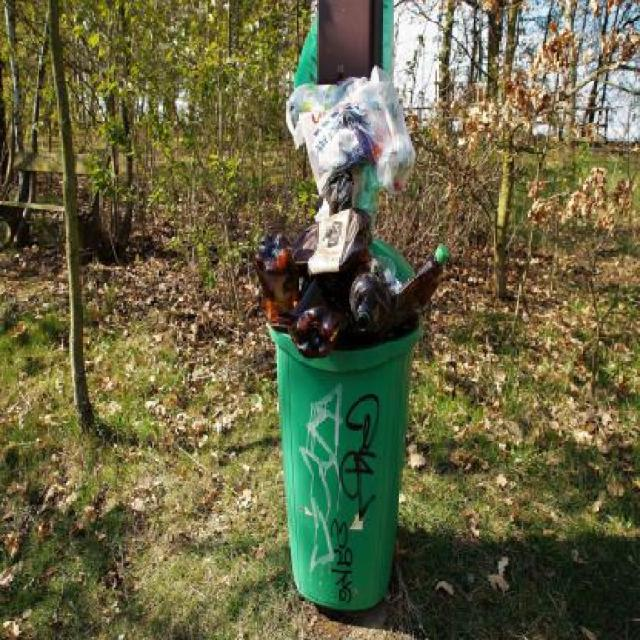garbage container: (263, 276, 431, 622)
